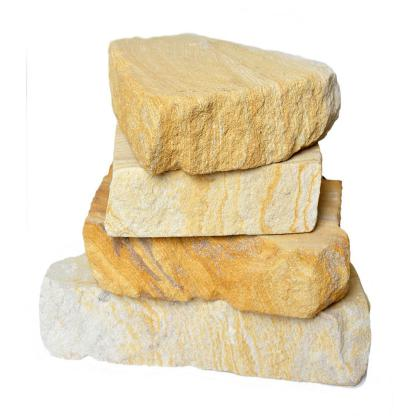Sedimentary_Sandstone: (31, 274, 389, 393), (96, 21, 344, 173), (96, 136, 329, 240), (79, 216, 354, 300)
